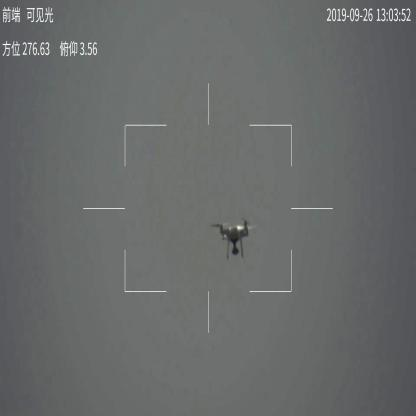uav: (208, 218, 251, 260)
